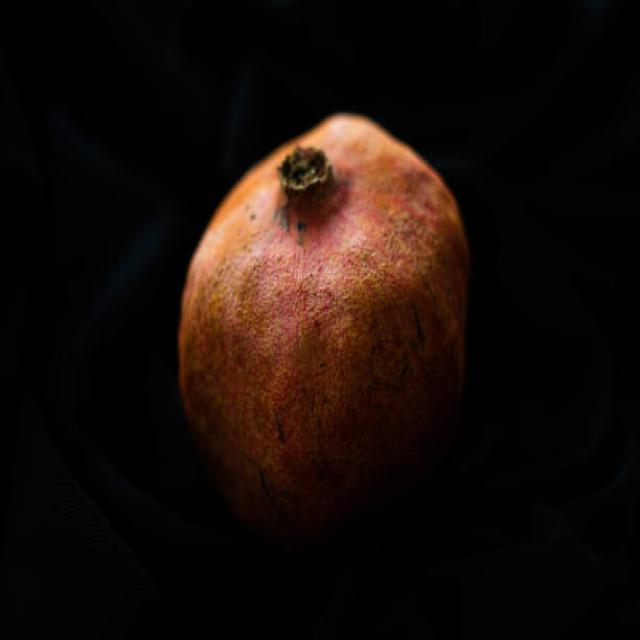overripe: (177, 104, 473, 524)
